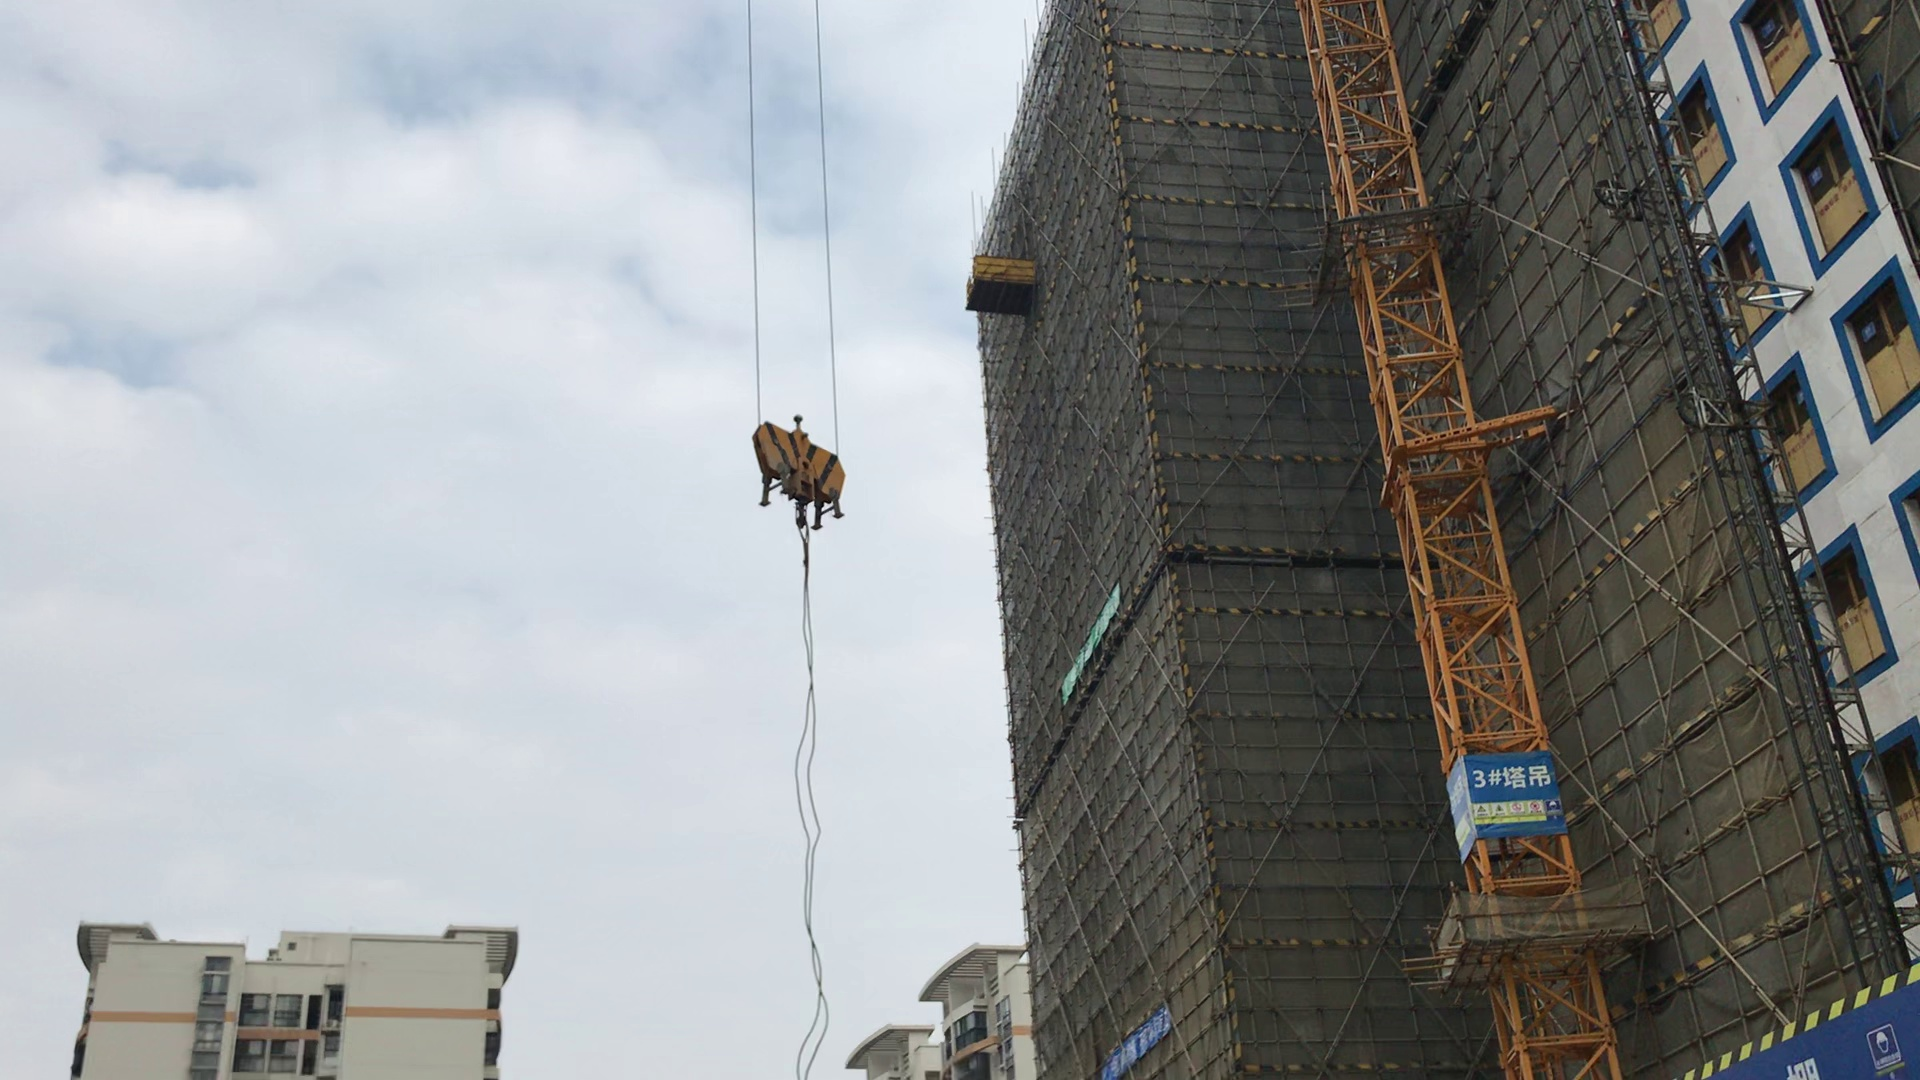hook: (749, 419, 853, 531)
slogan: (1064, 585, 1120, 705), (1100, 1006, 1168, 1077), (1470, 800, 1565, 822)
